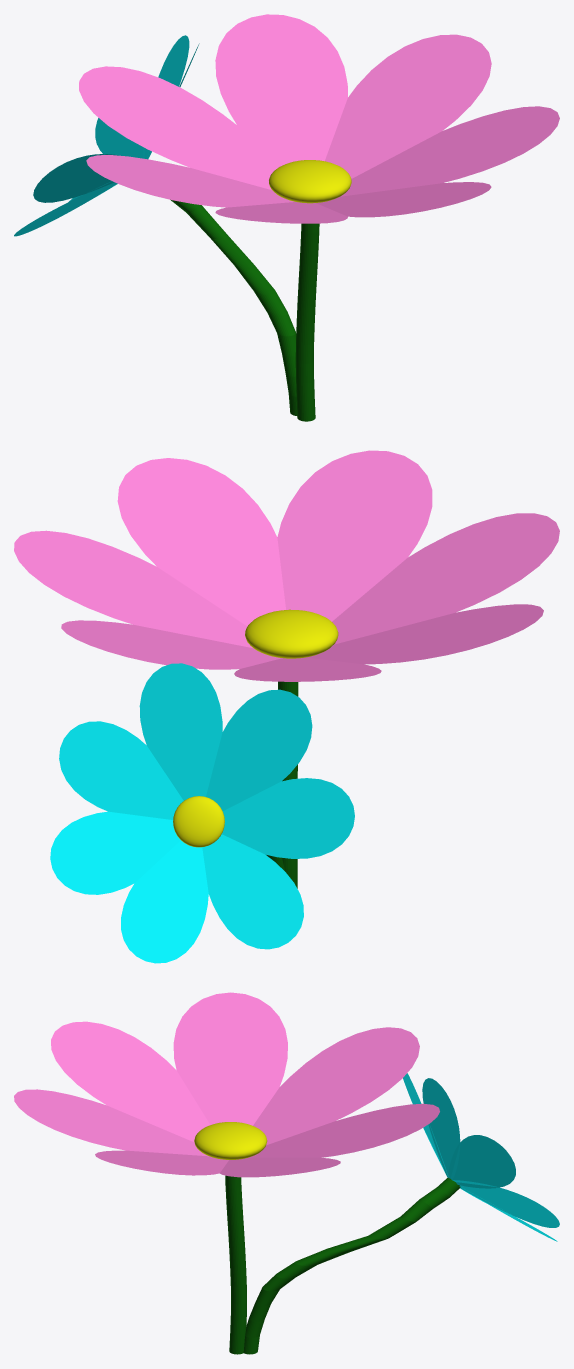
Rendered from FLOWER_2.fbx.
3 renders of one model, top to bottom at view 1: azimuth 30°, elevation 25°; view 2: azimuth 150°, elevation 25°; view 3: azimuth 270°, elevation 25°, orthographic. The views are drawn at different scales.
Parts seen in each view (by area): view 1: FLOWER.001; view 2: FLOWER.001; view 3: FLOWER.001.
Boxes of the visible parts, x1=… form: FLOWER.001: x1=14, y1=14, x2=559, y2=421; FLOWER.001: x1=14, y1=450, x2=559, y2=963; FLOWER.001: x1=14, y1=992, x2=559, y2=1354.
Bounding box in the file's own units: 34.86 × 23.82 × 44.35.
